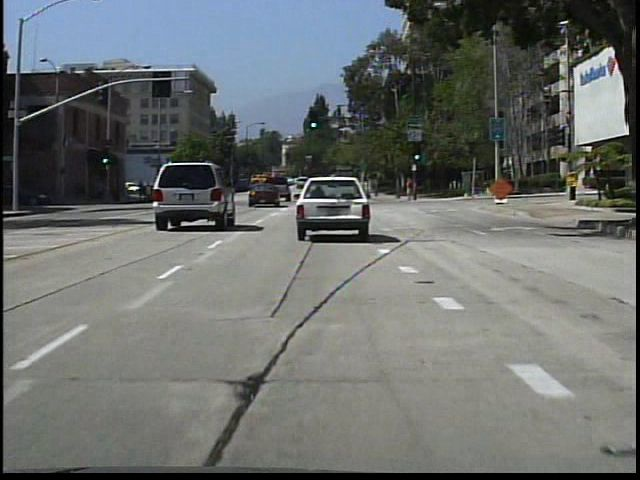person: (404, 174, 419, 206)
